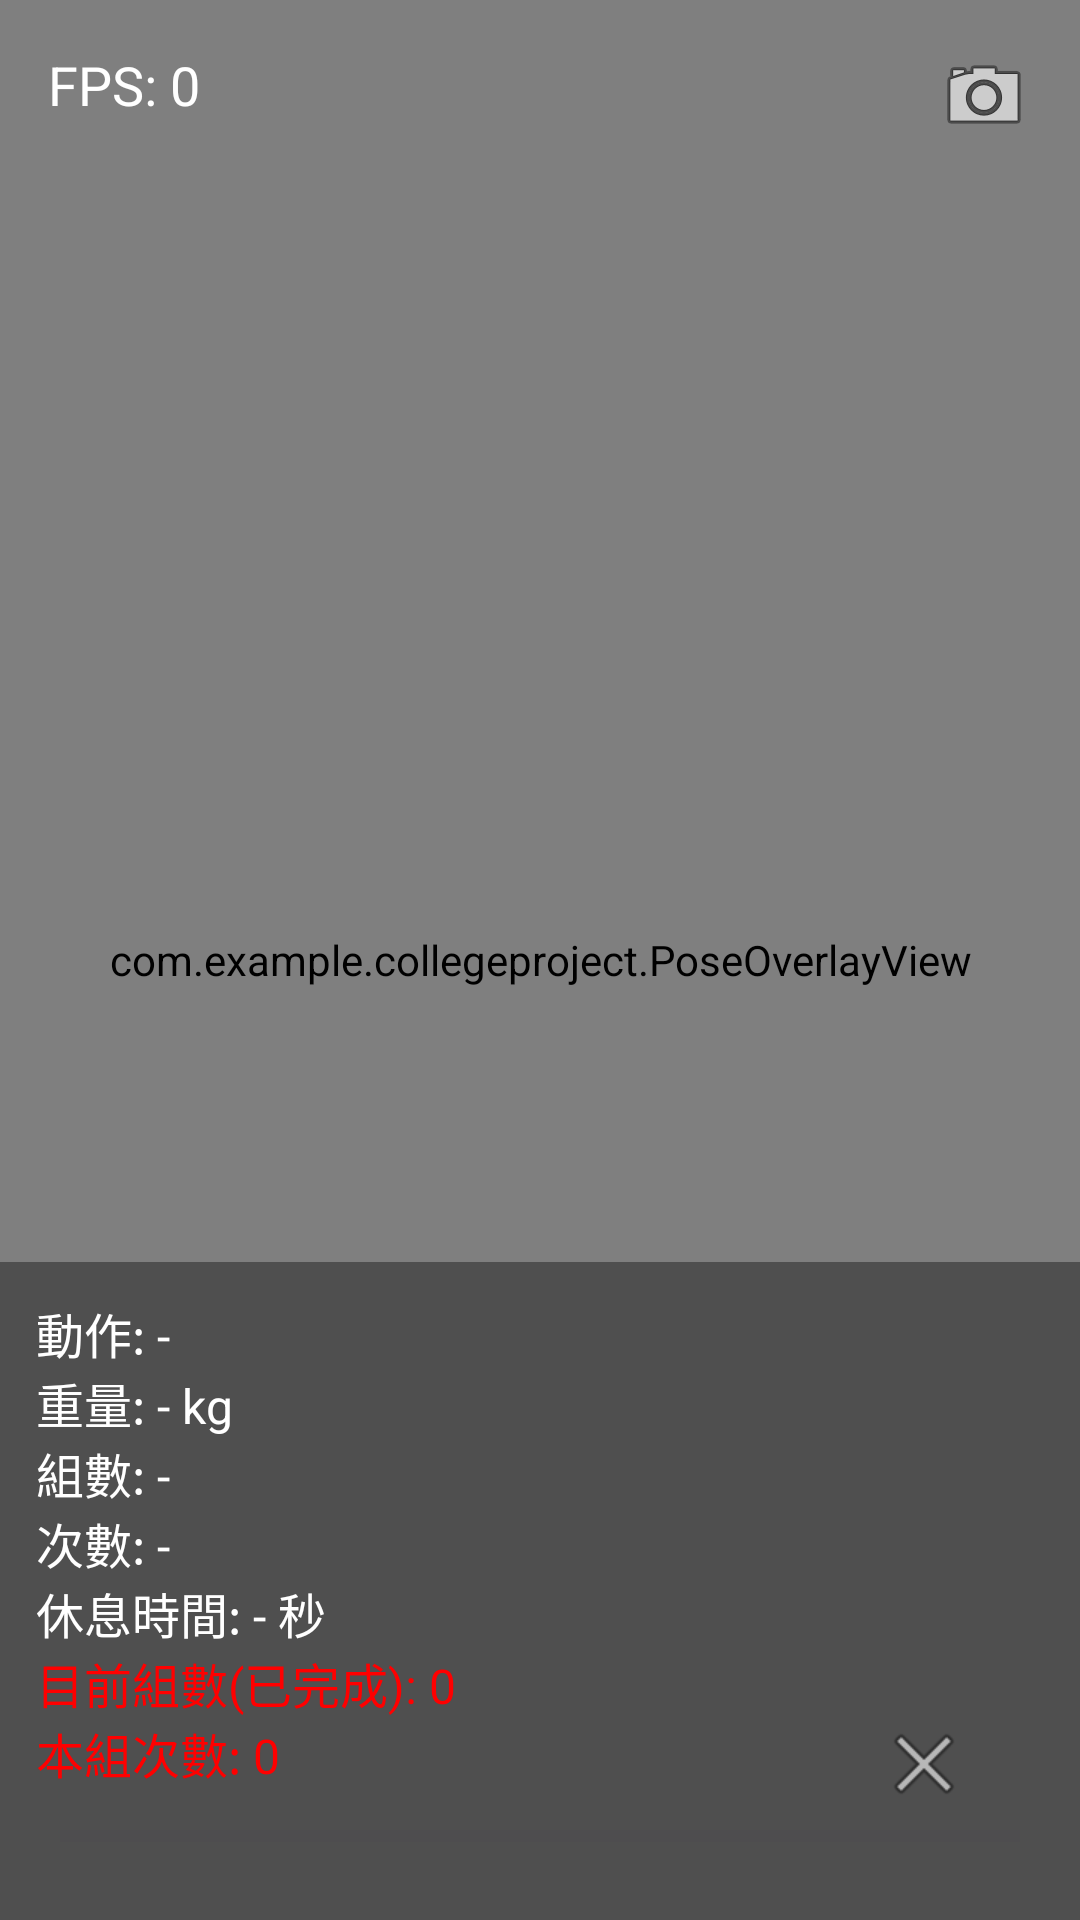

Where to tap for icons on this 1080x1920 app screen, as (x=x, y=y):
close clear cancel: (x=924, y=1764)
